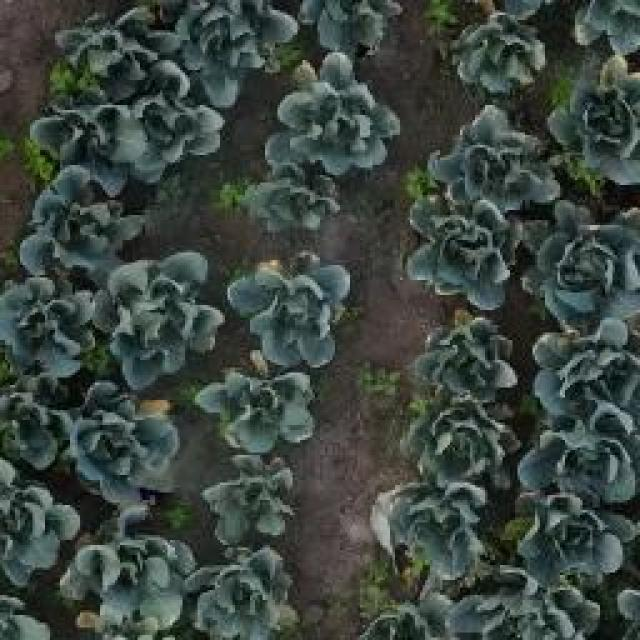cabbage: (269, 56, 401, 175), (62, 522, 192, 640), (101, 251, 211, 384), (524, 202, 640, 326), (165, 0, 298, 108), (424, 106, 562, 210), (230, 254, 354, 367), (69, 380, 179, 507), (404, 194, 519, 310), (370, 467, 482, 585), (518, 413, 640, 507), (19, 170, 138, 266), (58, 3, 178, 97), (187, 542, 302, 640), (528, 318, 640, 418), (0, 265, 100, 377), (554, 58, 640, 188), (402, 388, 510, 487), (197, 366, 317, 455), (462, 566, 606, 640), (512, 491, 631, 580), (26, 92, 136, 188), (0, 458, 78, 590), (413, 310, 524, 402), (448, 0, 549, 98), (202, 456, 303, 552), (129, 88, 222, 182), (239, 166, 349, 238), (0, 380, 80, 475)
